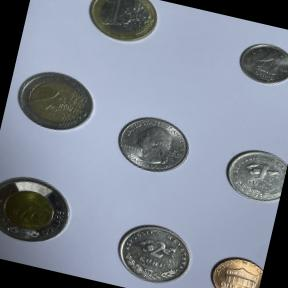coin: (7, 60, 106, 140), (106, 105, 200, 182), (104, 214, 201, 288), (0, 165, 82, 252), (77, 0, 167, 51), (231, 34, 288, 93), (201, 248, 265, 288)
